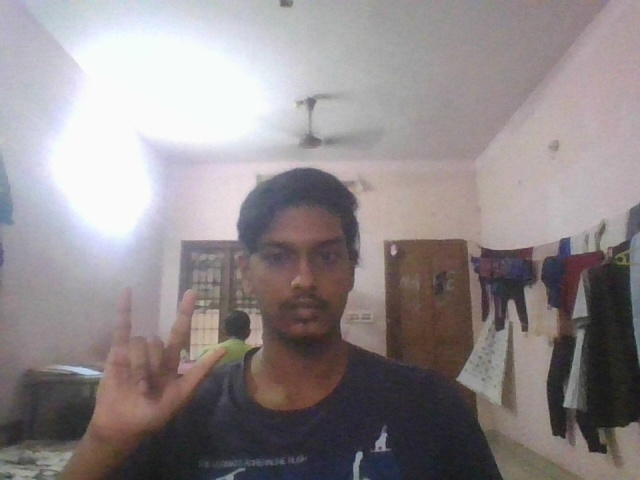iloveyou: (90, 283, 225, 436)
